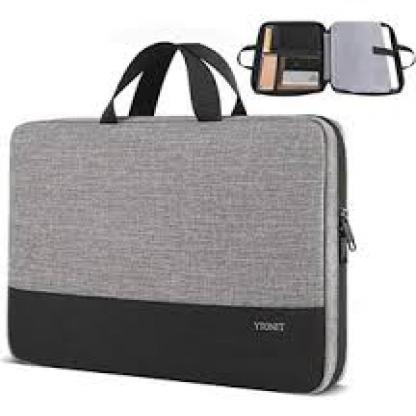morral: (8, 78, 383, 402)
